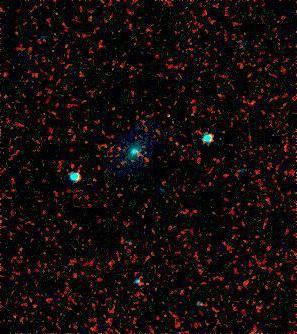star: (158, 100, 188, 130)
